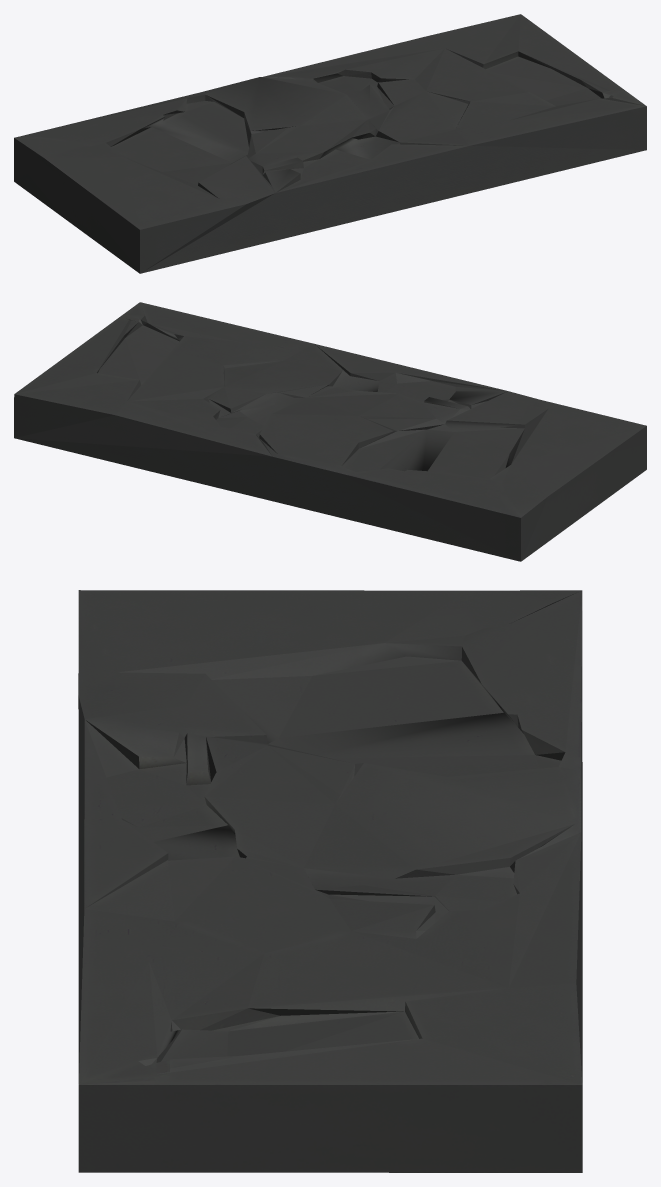
The model's file is ENV_DoorThreshold.fbx.
The picture shows the model from 3 angles, top to bottom: view 1: azimuth 30°, elevation 25°; view 2: azimuth 150°, elevation 25°; view 3: azimuth 270°, elevation 25°; orthographic projection. The views are drawn at different scales.
Parts seen in each view (by area): view 1: Mesh_0; view 2: Mesh_0; view 3: Mesh_0.
Part boxes in pixels (x1,y1,x2,y2): Mesh_0: (14, 14, 646, 273); Mesh_0: (14, 302, 646, 561); Mesh_0: (78, 590, 582, 1172).
Size of the model in its own units: 190 by 16.63 by 81.73.
Materials: 1 (1 with a texture image).
